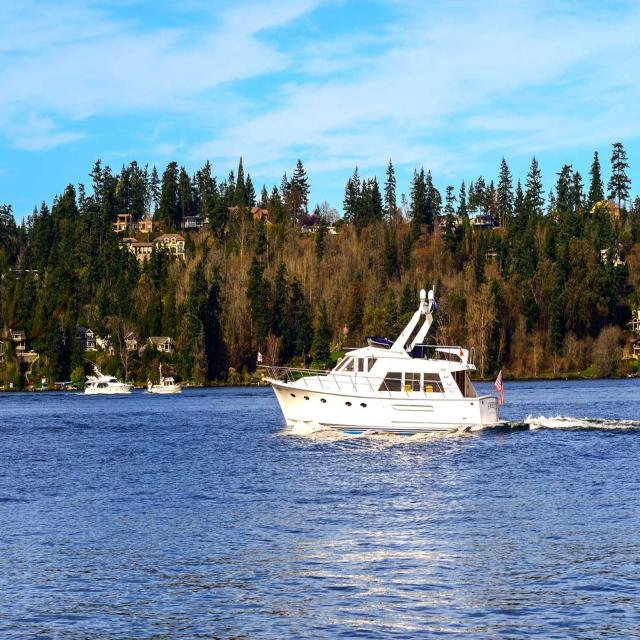houseboat: (262, 278, 499, 443)
